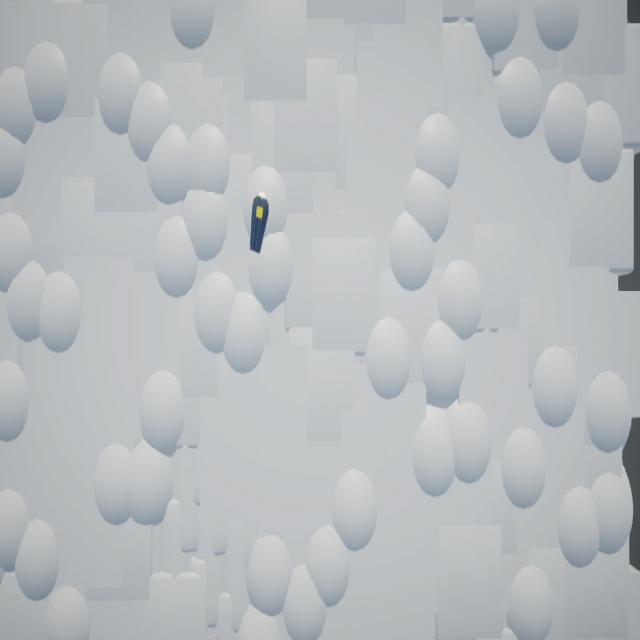handle_folk: (251, 194, 271, 255)
